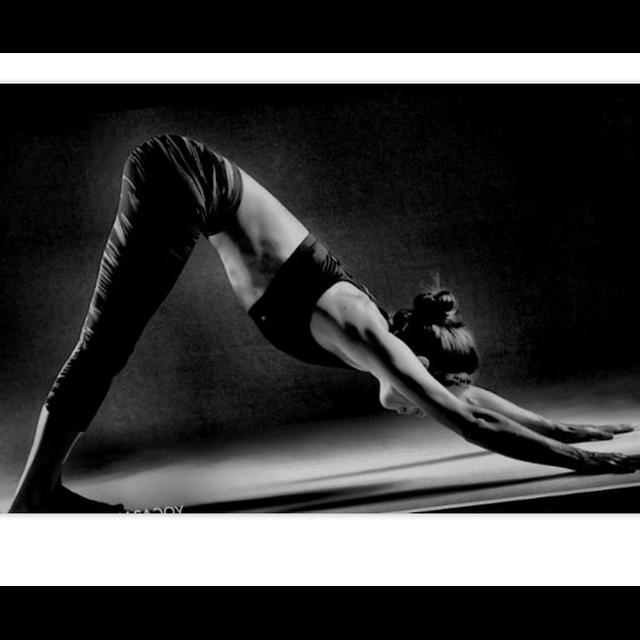Downward-Facing_Dog: (6, 125, 640, 511)
